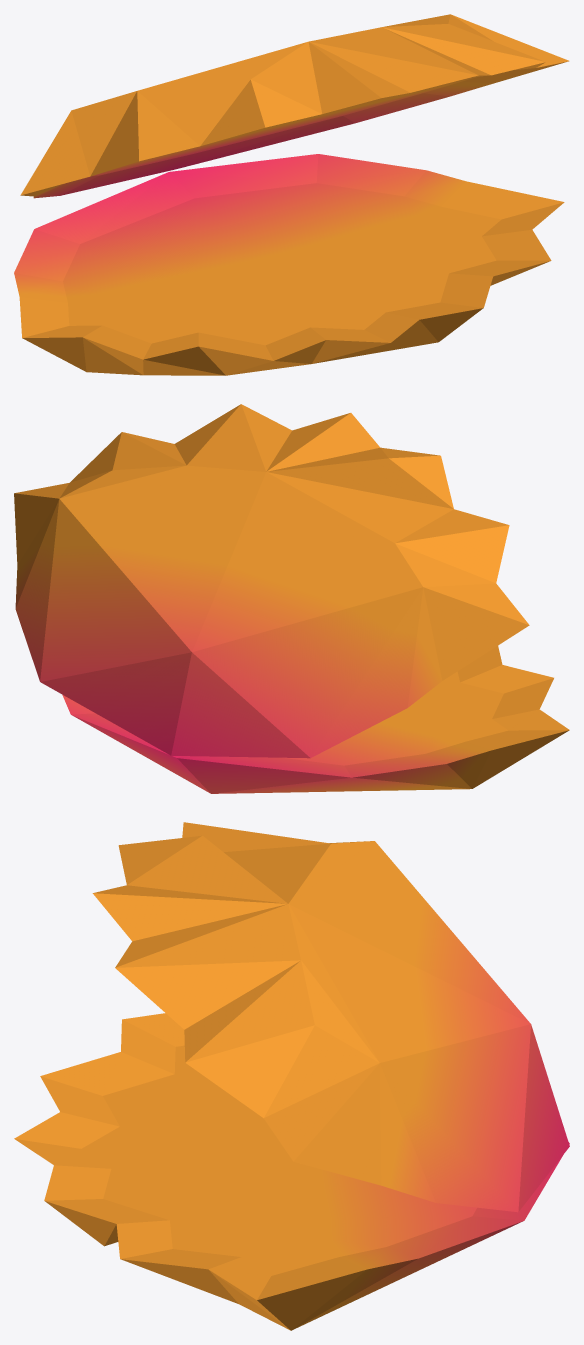
The model's file is SM_Shell_4.fbx.
The picture shows the model from 3 angles, top to bottom: view 1: azimuth 30°, elevation 25°; view 2: azimuth 150°, elevation 25°; view 3: azimuth 270°, elevation 25°; orthographic projection. The views are drawn at different scales.
Parts seen in each view (by area): view 1: Shell_4; view 2: Shell_4; view 3: Shell_4.
Boxes of the visible parts, left/top/right/bottom form: Shell_4: left=14, top=14, right=569, bottom=375; Shell_4: left=14, top=404, right=569, bottom=793; Shell_4: left=14, top=822, right=569, bottom=1330.
Bounding box in the file's own units: 35.27 × 17.4 × 24.87.
